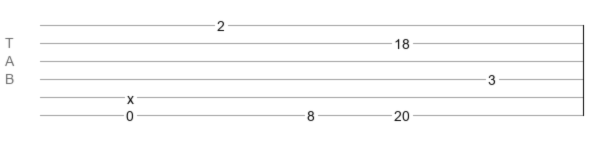0: (126, 108, 134, 118)
18: (394, 36, 410, 46)
2: (217, 18, 225, 28)
20: (394, 108, 410, 118)
3: (488, 72, 496, 82)
8: (307, 108, 315, 118)
x: (127, 91, 134, 99)
